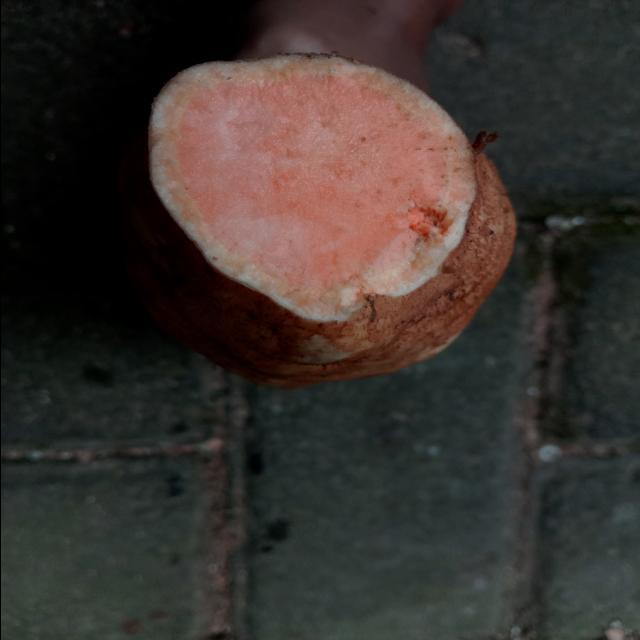Healthy Sweet Potato: (147, 55, 475, 321)
